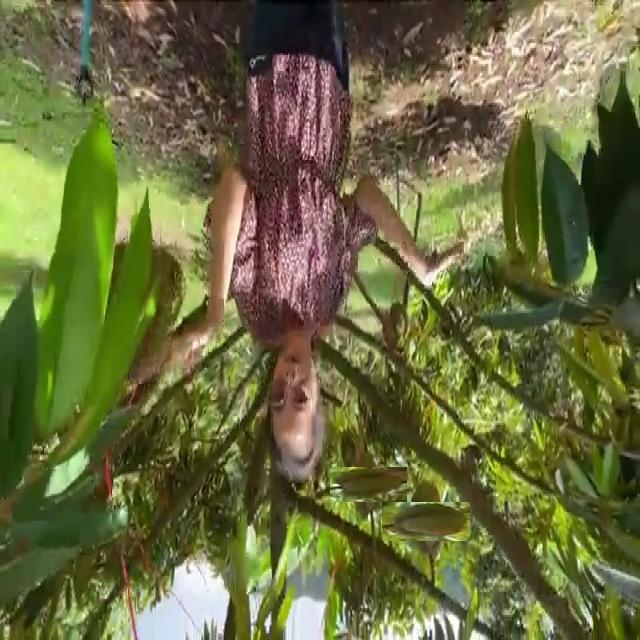durian: (394, 490, 458, 554), (340, 456, 397, 513)
